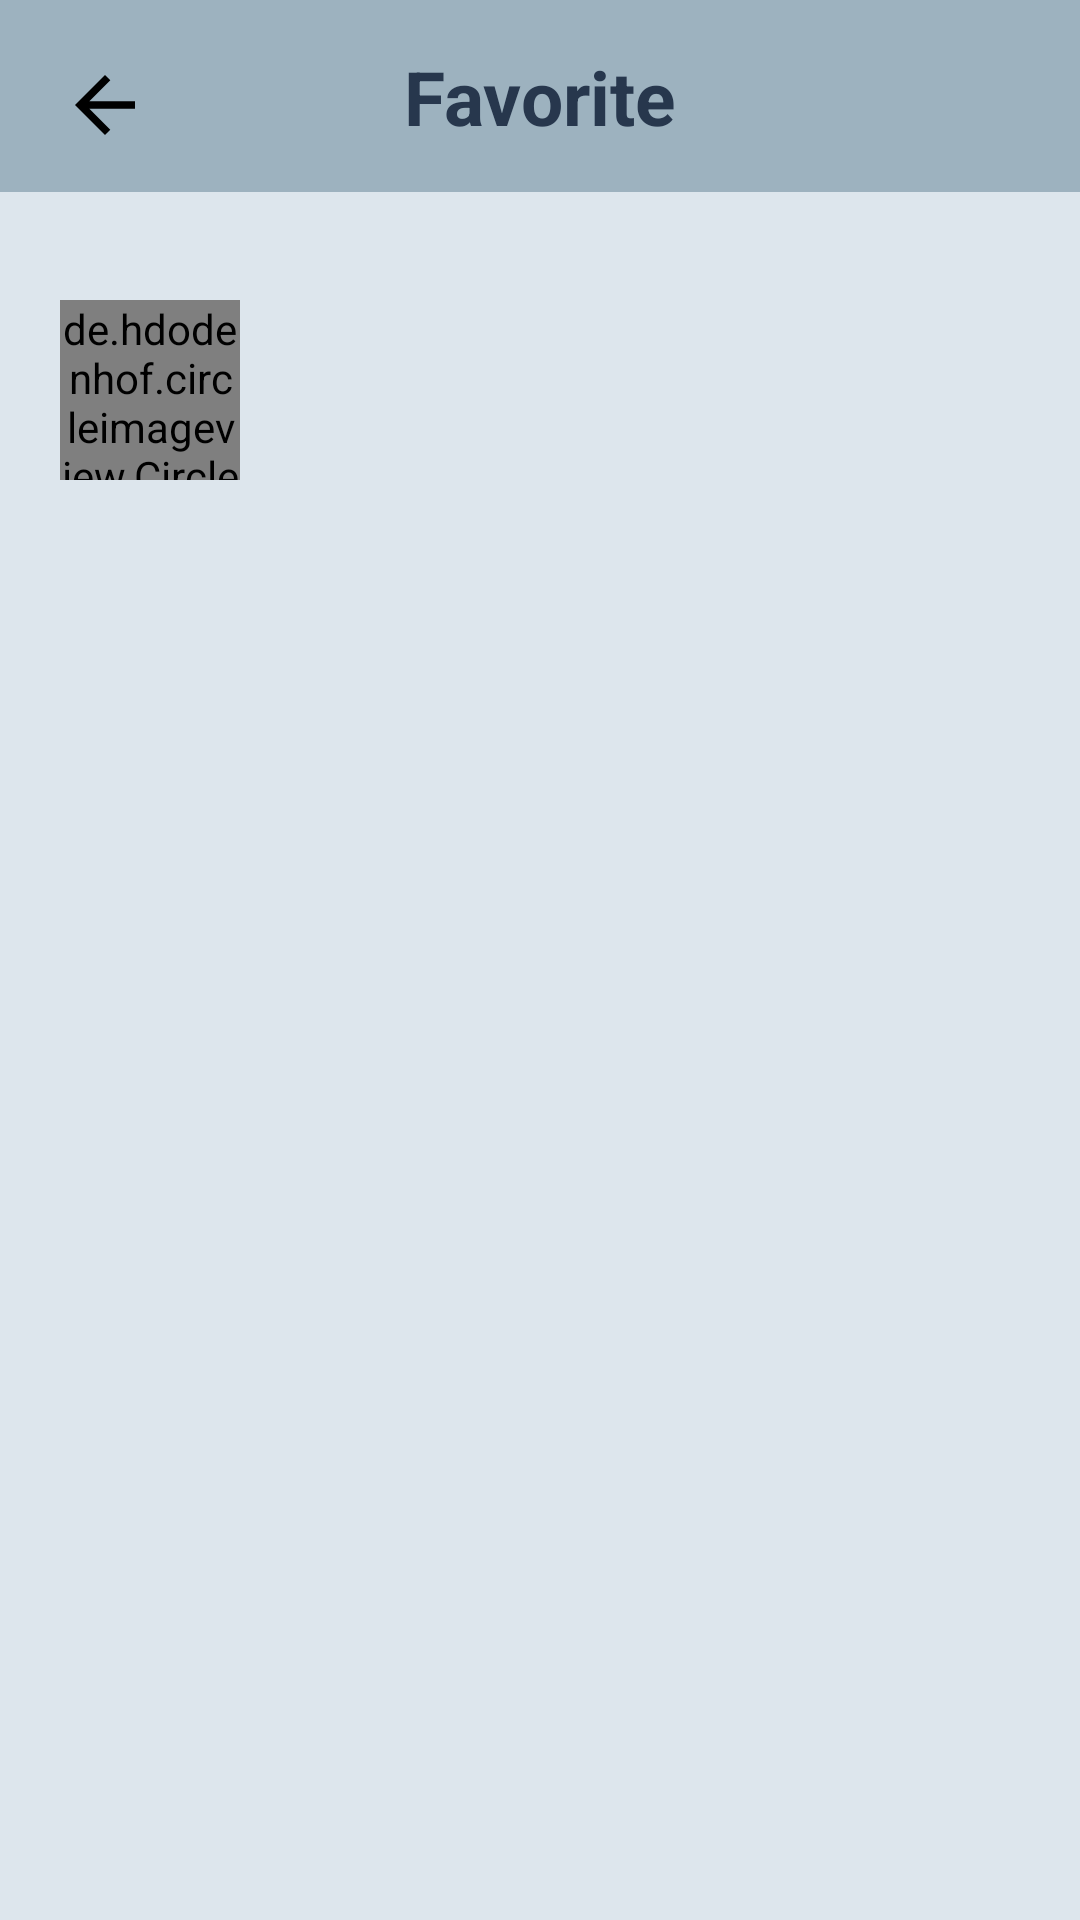

Screen size 1080w x 1920h. Icon name, then its center in pixels as [x,y]:
Back: [105,105]
